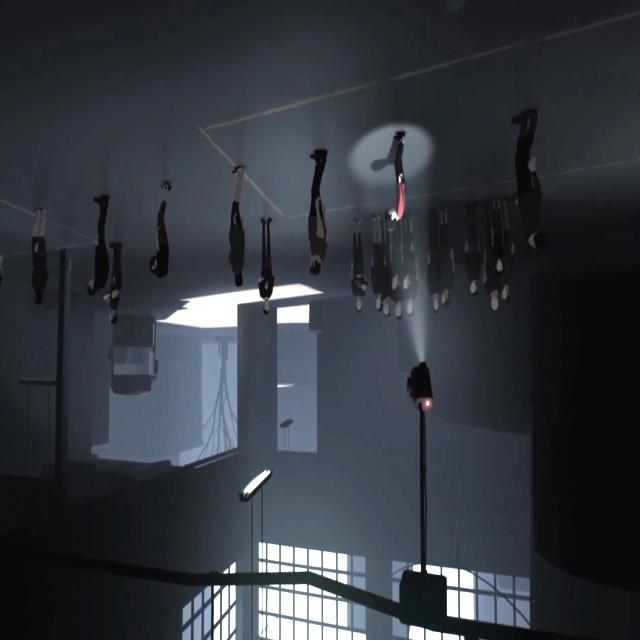boy: (386, 129, 407, 231)
human: (258, 217, 275, 316), (351, 220, 368, 313), (499, 200, 514, 304), (427, 207, 442, 310), (465, 203, 481, 297), (371, 217, 386, 312), (442, 204, 454, 306), (402, 212, 416, 290), (486, 279, 501, 313), (107, 296, 120, 324), (393, 293, 405, 320)
zombie: (509, 109, 544, 257), (307, 152, 329, 274), (228, 164, 248, 287), (87, 196, 111, 294), (148, 182, 172, 278), (31, 208, 49, 304)
